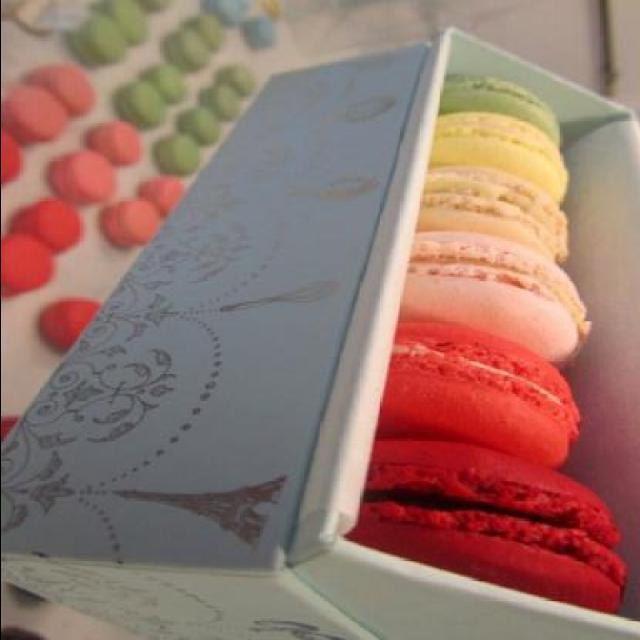Macaron: (362, 72, 624, 604), (2, 1, 280, 342)
